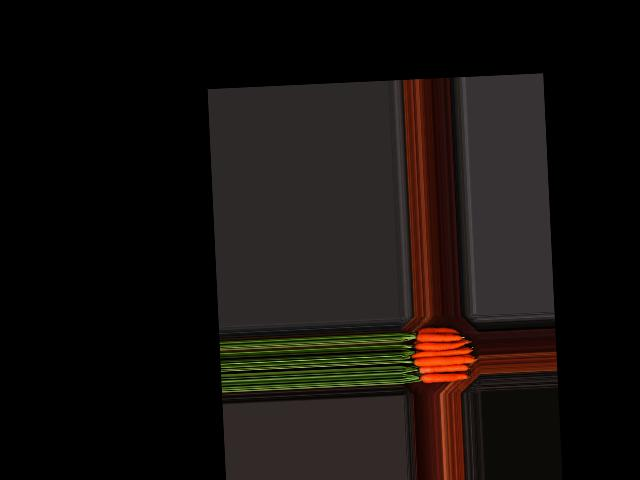carrot: (416, 322, 465, 337)
